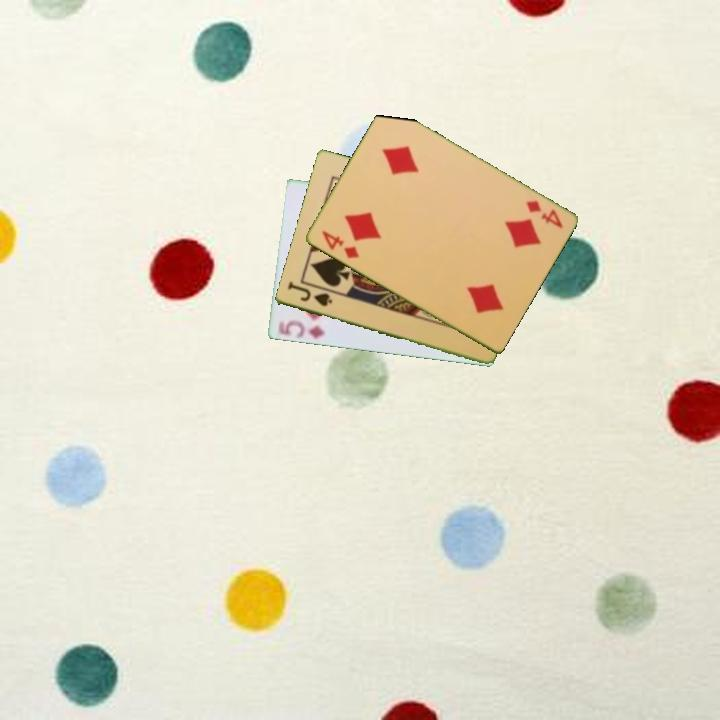4d: (318, 227, 362, 262), (522, 197, 566, 231)
5d: (274, 317, 328, 342)
Js: (284, 280, 335, 310)
